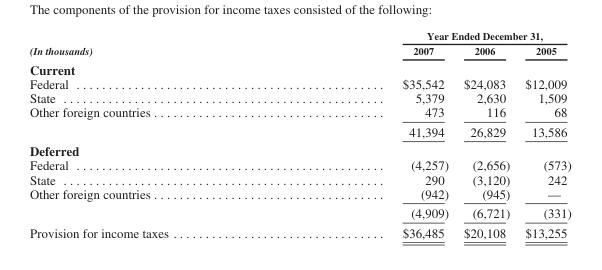table: (28, 29, 570, 239)
table column: (28, 29, 284, 239), (284, 29, 455, 239), (455, 29, 516, 239), (516, 29, 570, 239)
table column header: (28, 29, 570, 59)
table projected row header: (28, 59, 570, 76), (28, 140, 570, 157)
table row: (28, 121, 570, 140), (28, 203, 570, 222), (28, 59, 570, 76), (28, 104, 570, 121), (28, 140, 570, 157), (28, 186, 570, 203), (28, 222, 570, 239), (28, 43, 570, 59), (28, 157, 570, 172), (28, 29, 570, 43), (28, 76, 570, 90), (28, 90, 570, 104), (28, 172, 570, 186)
table spanning cell: (28, 29, 284, 59), (284, 29, 570, 43)
